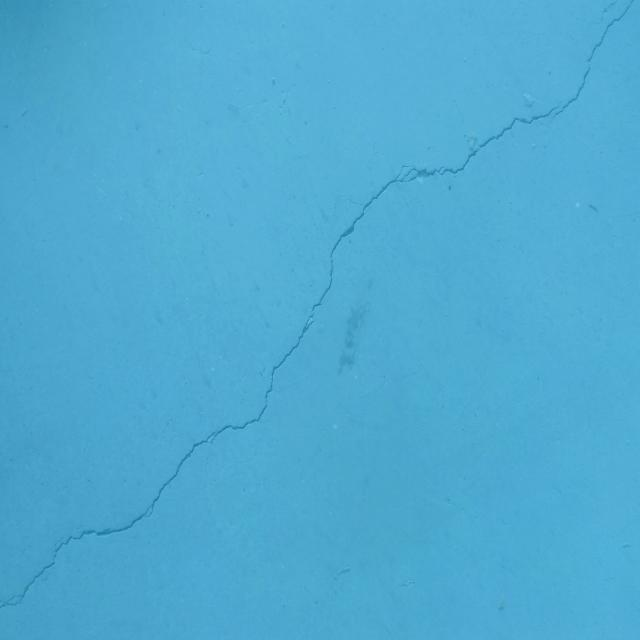crack: (0, 0, 635, 608), (591, 0, 618, 25)
